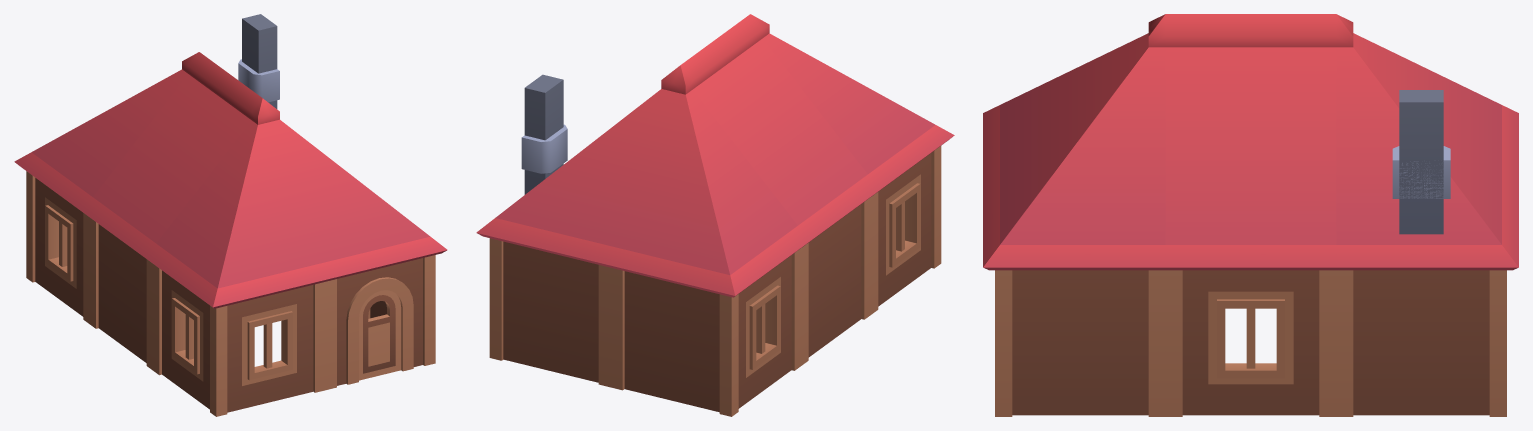
File: house.glb
The picture shows the model from 3 angles, left to right: view 1: azimuth 30°, elevation 25°; view 2: azimuth 150°, elevation 25°; view 3: azimuth 270°, elevation 25°; orthographic projection. The views are drawn at different scales.
Parts seen in each view (by area): view 1: house; view 2: house; view 3: house.
Boxes of the visible parts, x1,y1,x2,y2 form: house: (14, 14, 447, 416); house: (476, 14, 954, 416); house: (983, 14, 1518, 416).
Size of the model in its own units: 6.42 by 6.42 by 9.42.
Materials: 17 (17 with a texture image).
